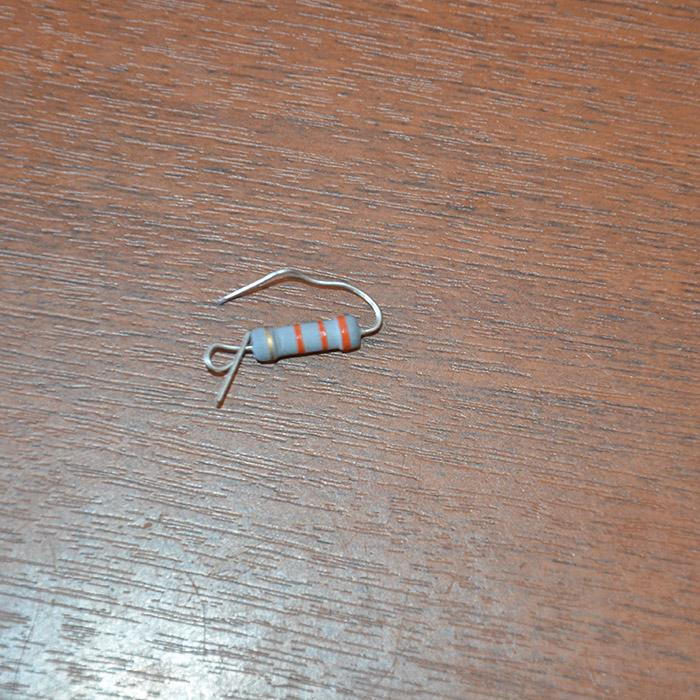resistor: (247, 312, 362, 363)
